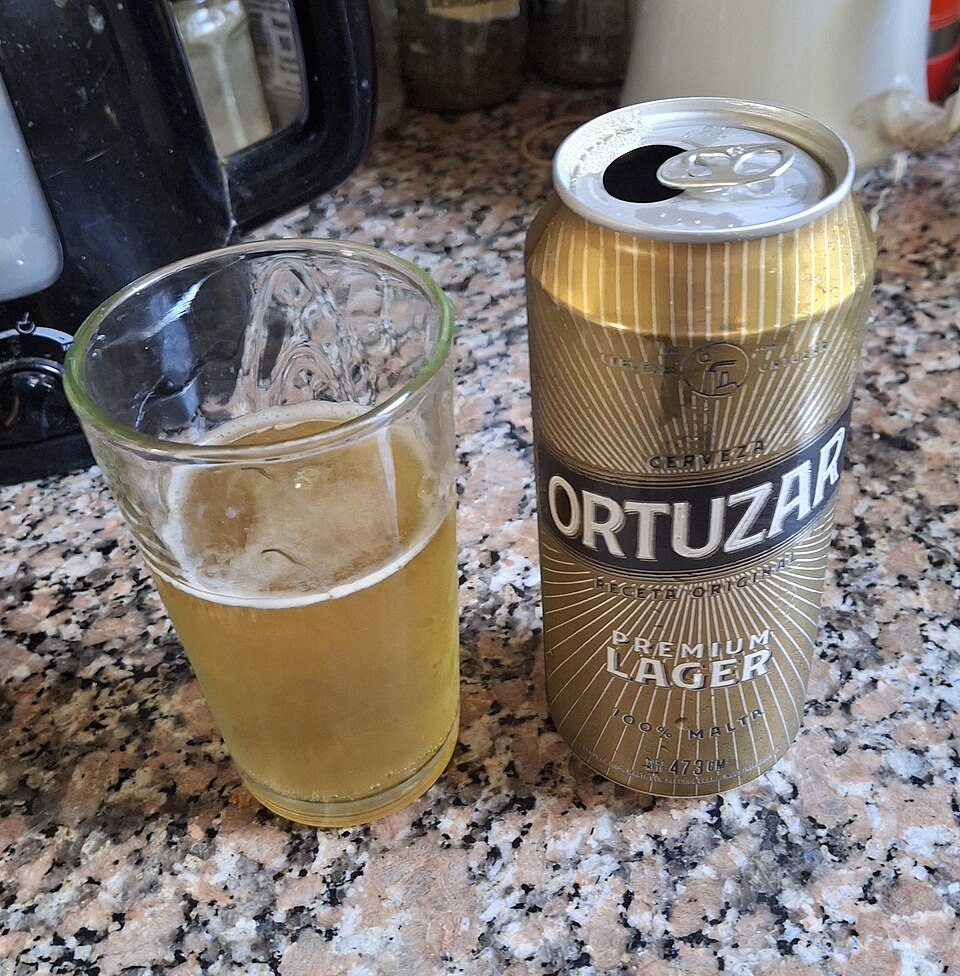beer-can: (519, 94, 880, 758)
